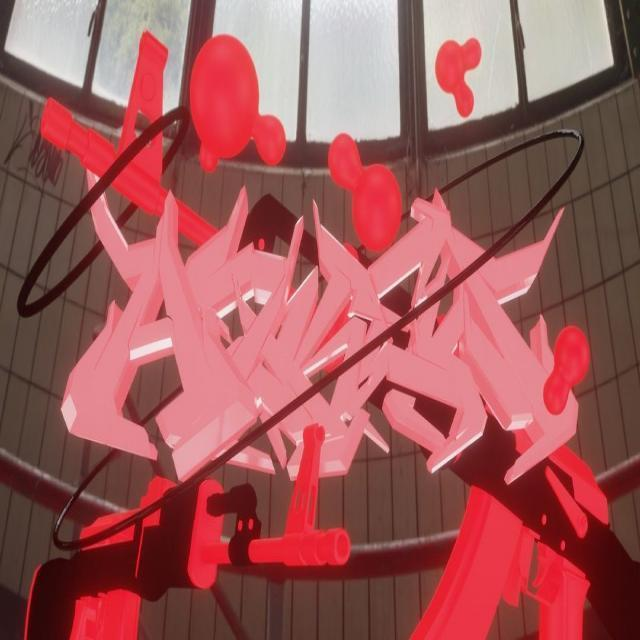-: (5, 21, 635, 634), (10, 74, 70, 208)
